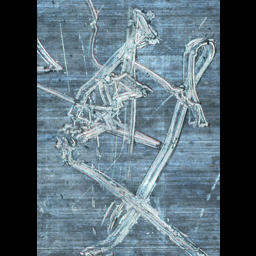d: (60, 136, 196, 256), (53, 60, 156, 163), (166, 30, 216, 135), (118, 3, 163, 64), (84, 0, 112, 71), (36, 31, 70, 82)
